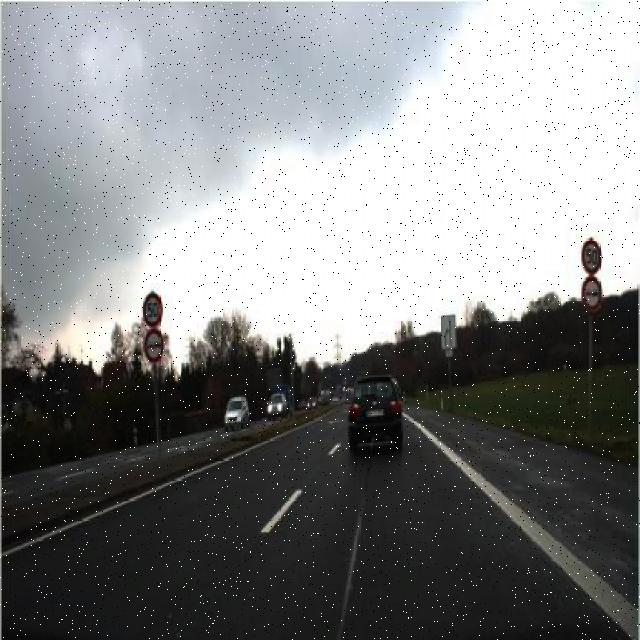Ograniczenie predkosci do 50: (578, 232, 604, 276), (141, 290, 167, 328)
